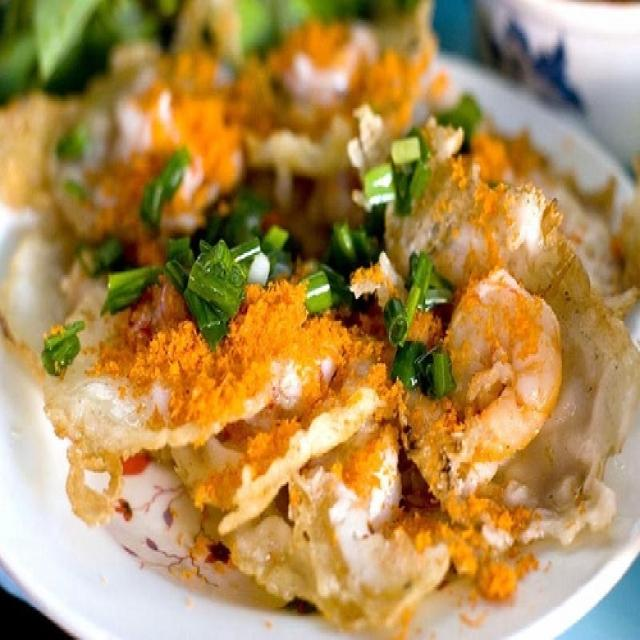炸货点心: (11, 13, 624, 618)
熟制海鲜: (11, 13, 624, 618)
